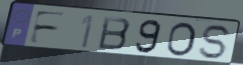1: (79, 14, 95, 50)
9: (135, 19, 164, 55)
B: (97, 15, 134, 52)
F: (27, 9, 69, 46)
O: (164, 21, 198, 58)
S: (197, 23, 235, 60)
